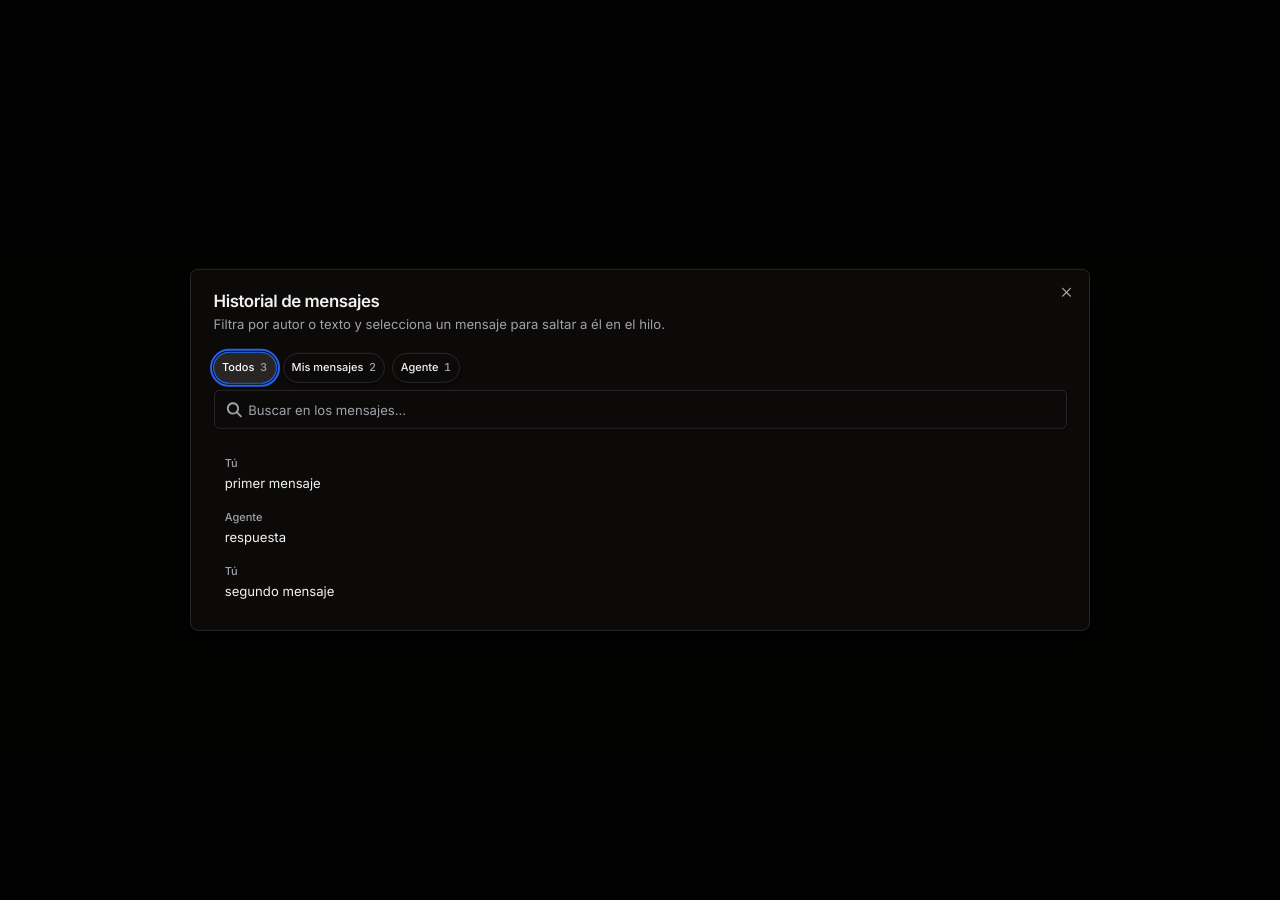
ChatHistoryDialog — filtro por autor (U3) › vuelve a todos los mensajes al reactivar "Todos"
Click the button with test id "chat-history-author-agent" at [426, 367], box [392,352,460,382]
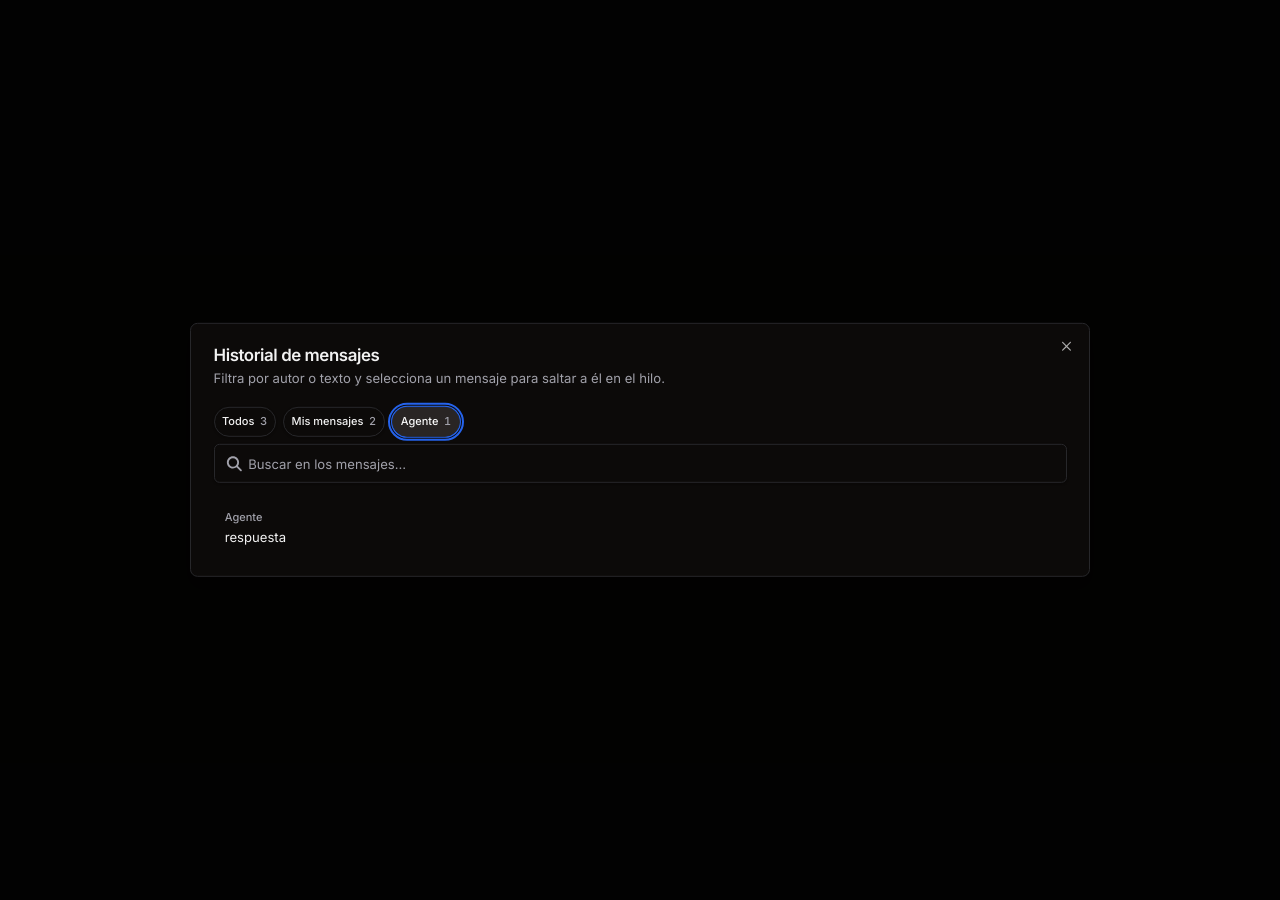
Check: the number of buttons with test id "chat-history-item" is 1, box [214,502,1063,554]
Click the button with test id "chat-history-author-all" at [245, 421], box [214,406,276,436]
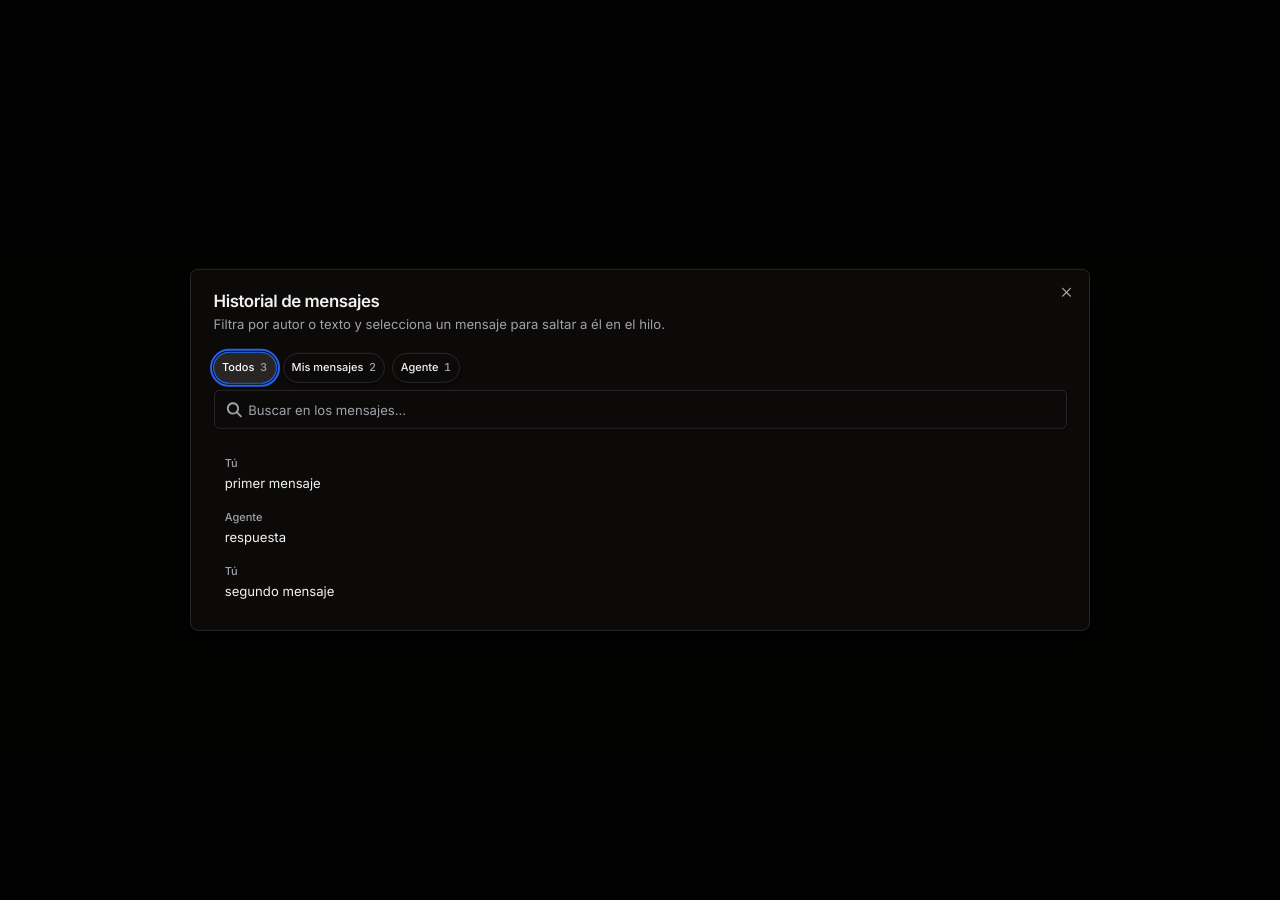
Check: the number of buttons with test id "chat-history-item" is 3, box [214,448,1063,500]; [214,502,1063,554]; [214,556,1063,608]
